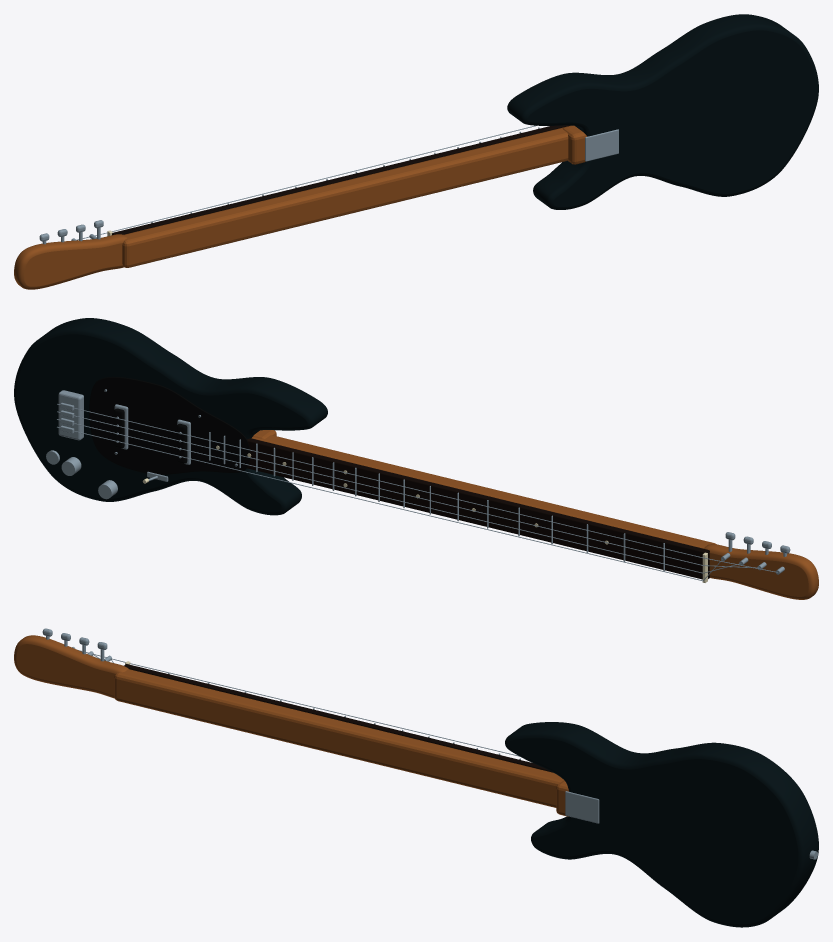
The model's file is Bass.obj.
The picture shows the model from 3 angles, top to bottom: view 1: azimuth 30°, elevation 25°; view 2: azimuth 150°, elevation 25°; view 3: azimuth 330°, elevation 25°; orthographic projection.
Parts seen in each view (by area): view 1: Carved_body.001; view 2: Carved_body.001; view 3: Carved_body.001.
Boxes of the visible parts, x1,y1,x2,y2 form: Carved_body.001: [14, 14, 818, 289]; Carved_body.001: [14, 318, 818, 599]; Carved_body.001: [14, 628, 818, 927].
Bounding box in the file's own units: 1.54 × 0.3086 × 0.0959.
